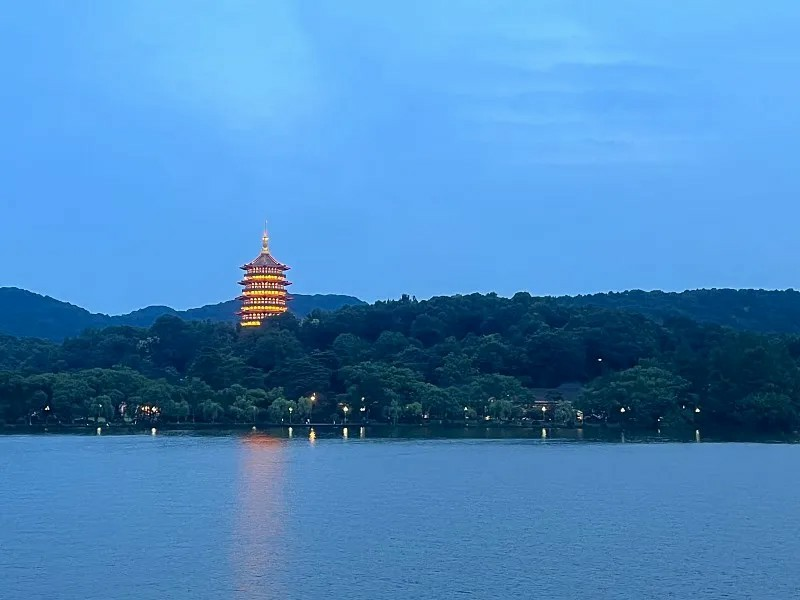Leifeng: (233, 218, 292, 330)
